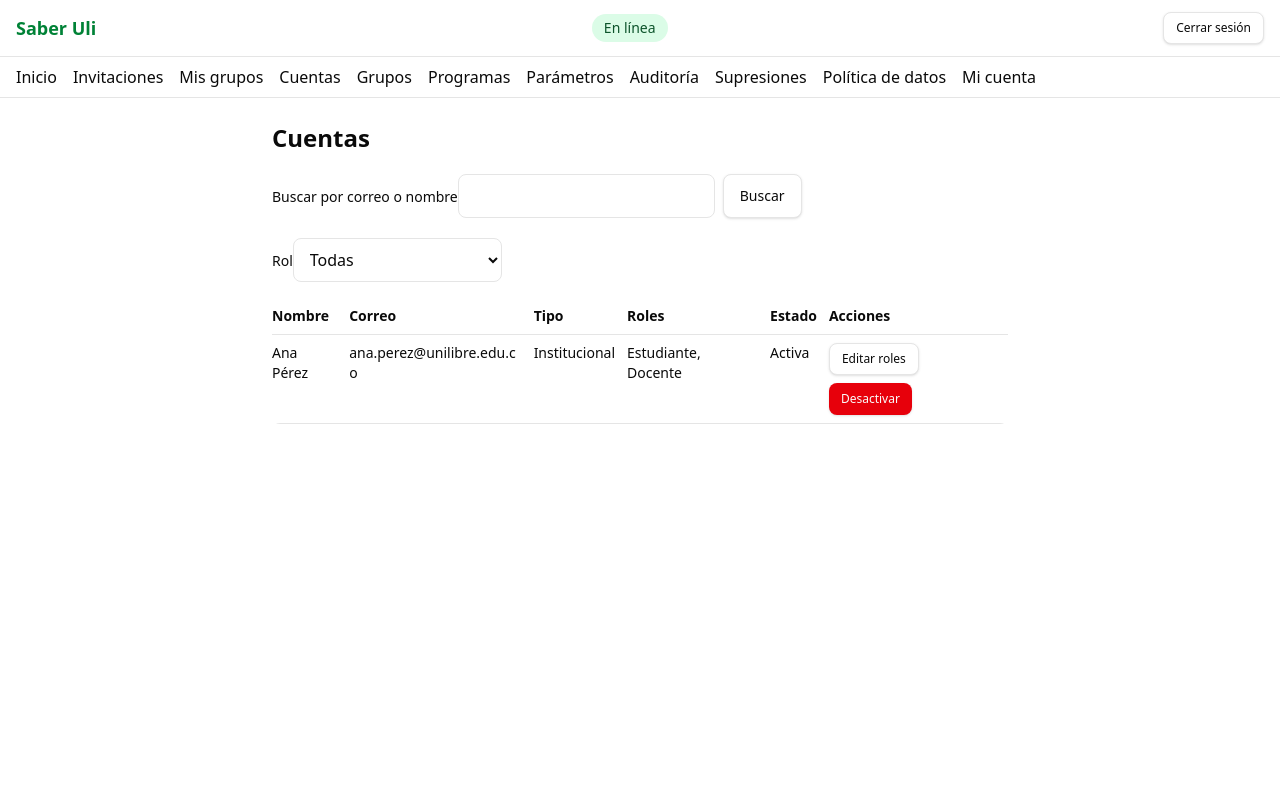
Scenario: cuentas › desactiva con confirmación y luego permite reactivar
Click the button with aria-label "Desactivar a Ana Pérez": (870, 399) [829,383,912,415]
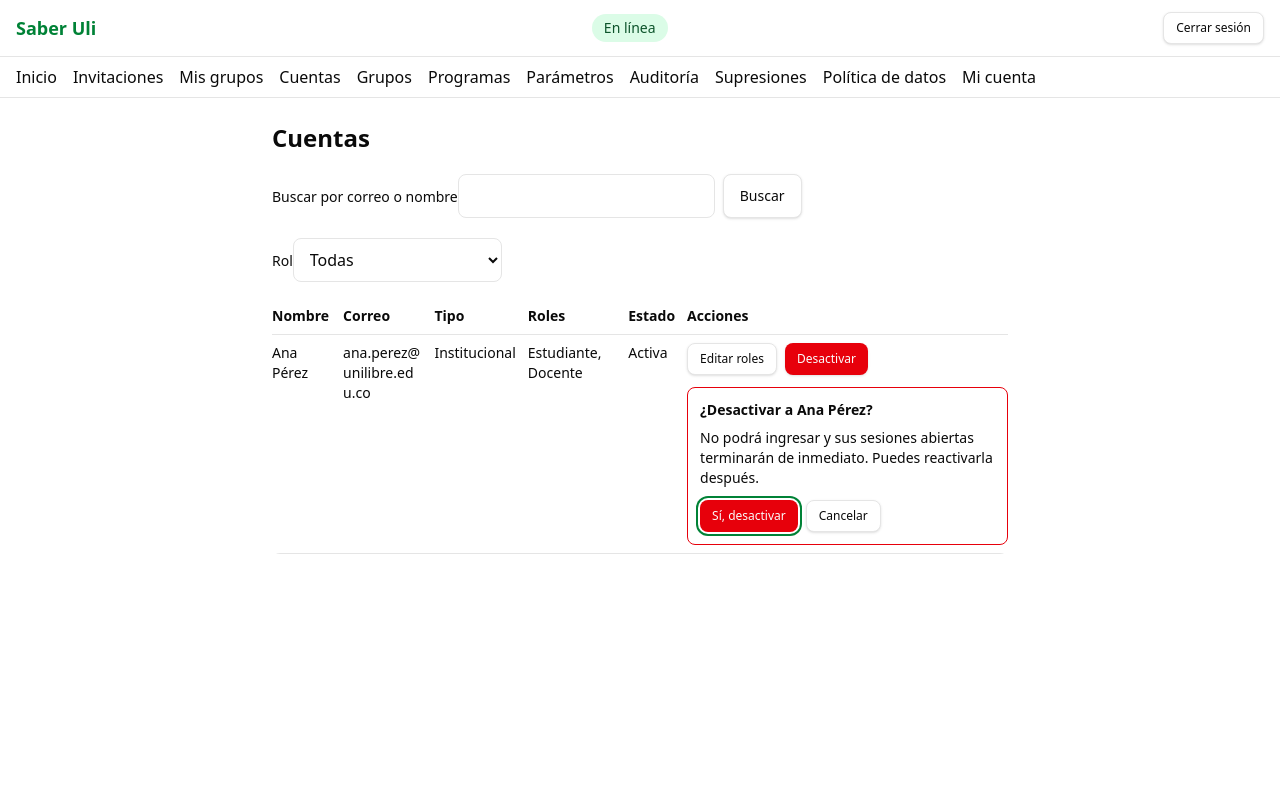
Click the button "Sí, desactivar": (749, 516) [700,500,798,532]
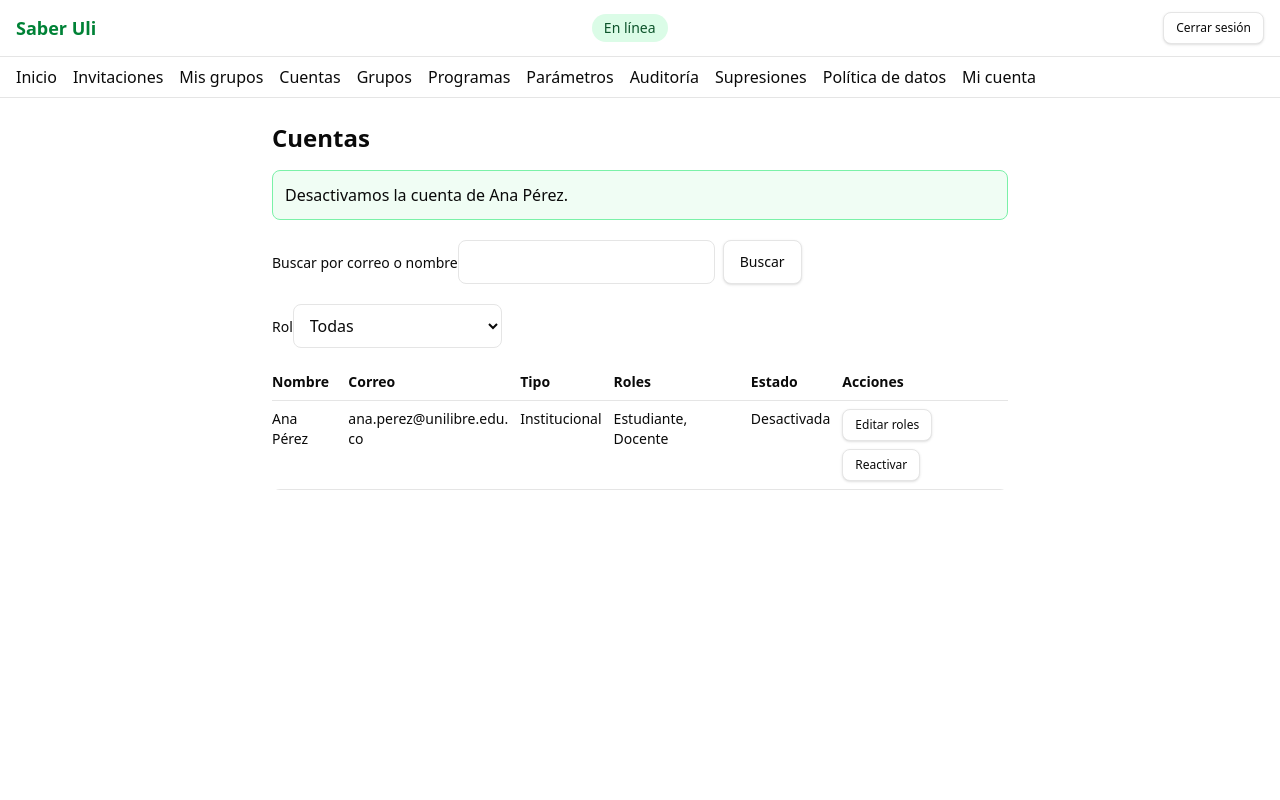
Now the button with aria-label "Reactivar a Ana Pérez" is shown, box [842,449,920,481]
Now the row that starts with "Ana Pérez" shows "Desactivada", box [751,409,830,428]
